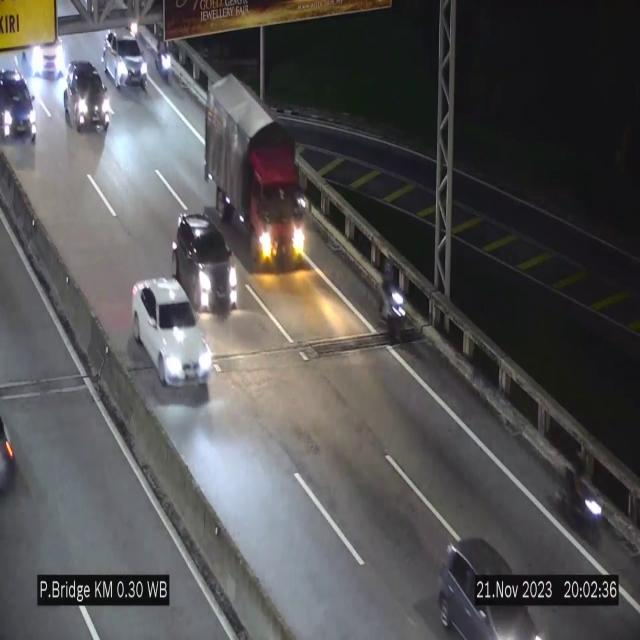Car: (431, 522, 552, 640), (132, 278, 212, 391), (165, 206, 241, 316), (0, 70, 46, 152), (64, 61, 110, 130), (102, 29, 146, 90)
Motorcycle: (562, 451, 604, 541), (377, 260, 405, 350), (152, 29, 170, 87)
Truck: (202, 71, 316, 275)
